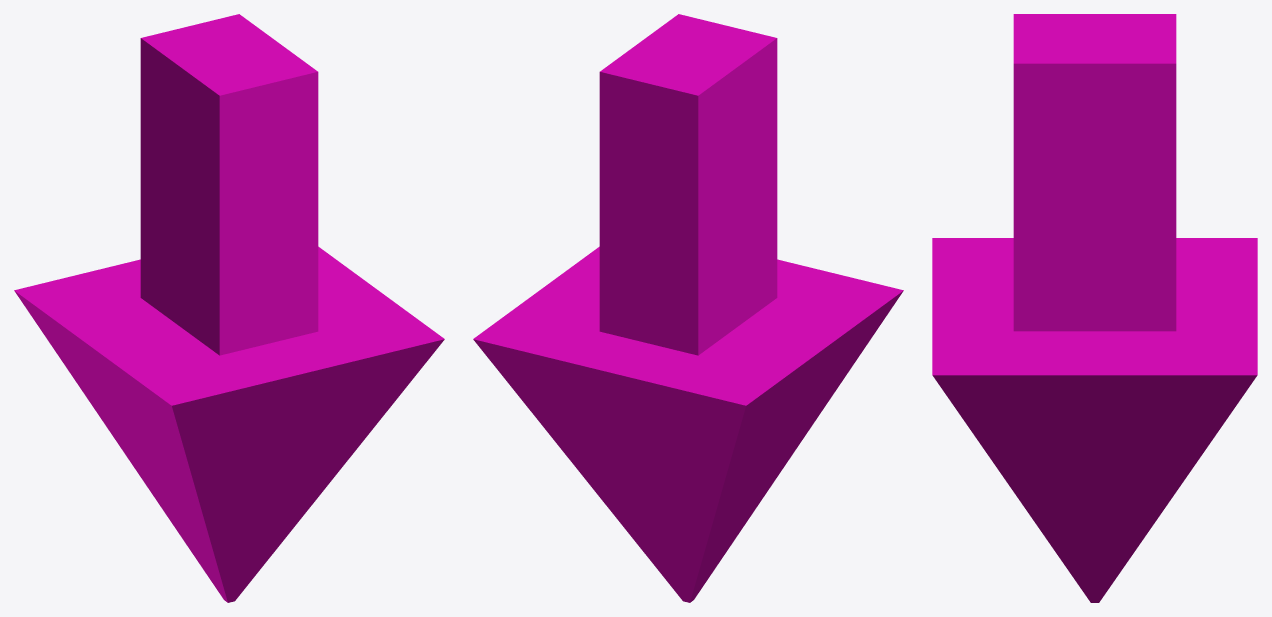
Rendered from Arrow.fbx.
3 renders of one model, left to right at view 1: azimuth 30°, elevation 25°; view 2: azimuth 150°, elevation 25°; view 3: azimuth 270°, elevation 25°, orthographic. The views are drawn at different scales.
Parts seen in each view (by area): view 1: Cube; view 2: Cube; view 3: Cube.
Boxes of the visible parts, x1=… form: Cube: x1=14, y1=14, x2=444, y2=602; Cube: x1=473, y1=14, x2=903, y2=602; Cube: x1=932, y1=14, x2=1257, y2=602.
Bounding box in the file's own units: 200 × 382 × 200.
